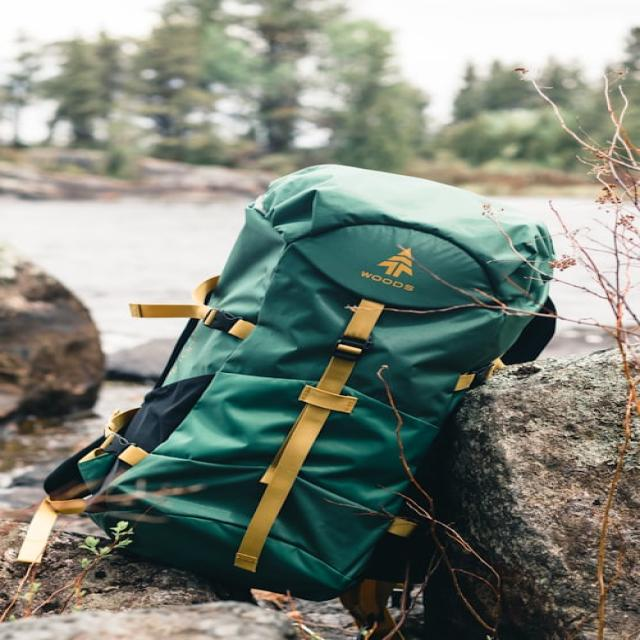backpack: (32, 163, 559, 603)
